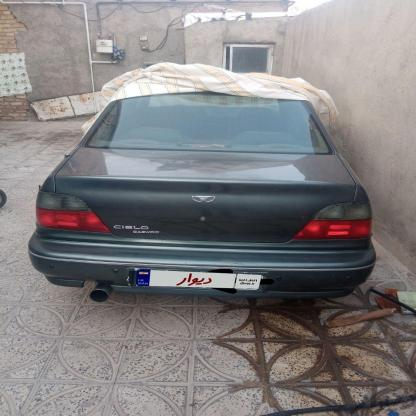Car: (21, 78, 378, 324)
